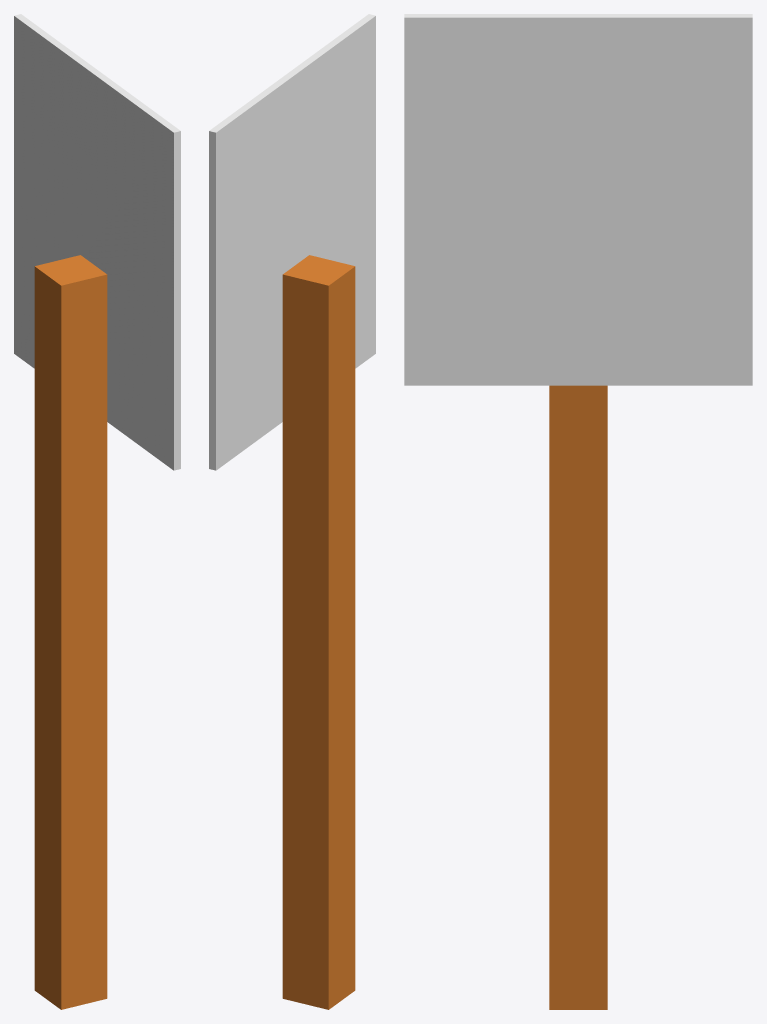
The model's file is senyal.glb.
3 renders of one model, left to right at view 1: azimuth 30°, elevation 25°; view 2: azimuth 150°, elevation 25°; view 3: azimuth 270°, elevation 25°, orthographic. The views are drawn at different scales.
Parts seen in each view (by area): view 1: palo, faceplate; view 2: palo, faceplate; view 3: faceplate, palo.
Part boxes in pixels (x1=…): palo: x1=34, y1=255, x2=107, y2=1009; faceplate: x1=14, y1=14, x2=180, y2=470; palo: x1=282, y1=255, x2=355, y2=1009; faceplate: x1=209, y1=14, x2=375, y2=470; faceplate: x1=404, y1=14, x2=752, y2=385; palo: x1=549, y1=385, x2=607, y2=1009.
Bounding box in the file's own units: 0.1152 × 1.89 × 0.6.
Materials: 2 (1 with a texture image).
